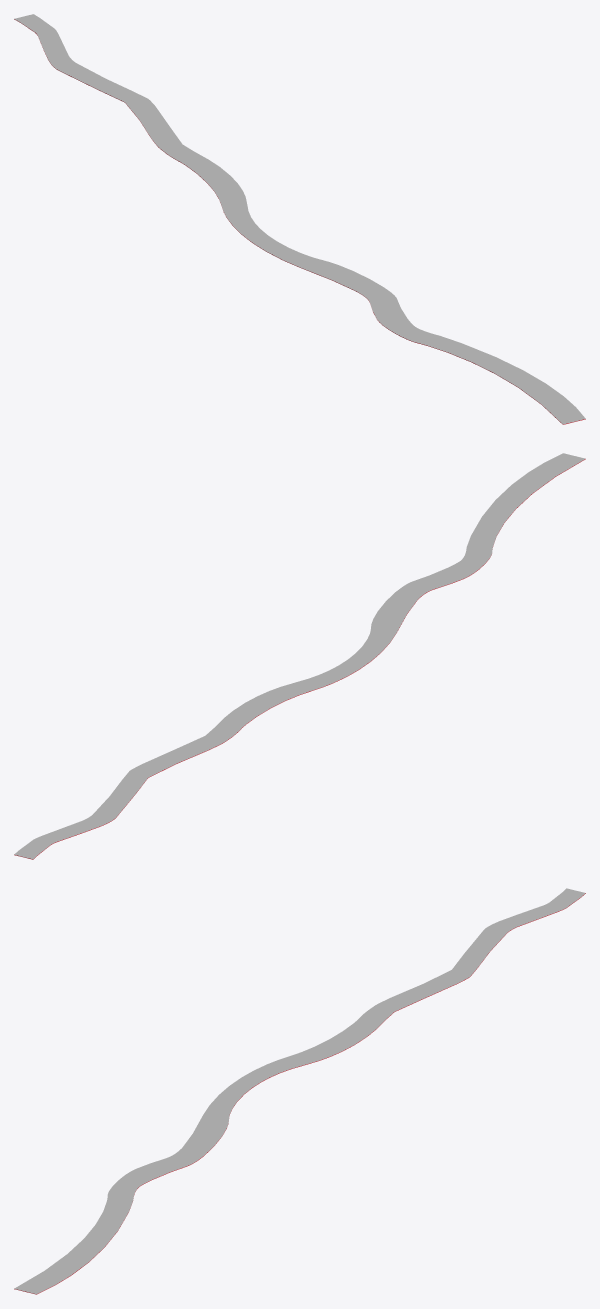
File: caminoFinal.glb
3 views of the same model, one above another, from view 1: azimuth 30°, elevation 25°; view 2: azimuth 150°, elevation 25°; view 3: azimuth 330°, elevation 25° (orthographic).
Parts seen in each view (by area): view 1: camino_capa_superiror1:Mesh, camino_capas_laterales1:Mesh; view 2: camino_capa_superiror1:Mesh, camino_capas_laterales1:Mesh; view 3: camino_capa_superiror1:Mesh, camino_capas_laterales1:Mesh.
Boxes of the visible parts, x1,y1,x2,y2 form: camino_capa_superiror1:Mesh: (14,14,585,424); camino_capas_laterales1:Mesh: (14,19,585,424); camino_capa_superiror1:Mesh: (14,453,585,859); camino_capas_laterales1:Mesh: (14,459,585,859); camino_capa_superiror1:Mesh: (14,888,585,1294); camino_capas_laterales1:Mesh: (14,893,585,1294).
Bounding box in the file's own units: 1.08 × 0.00701 × 13.54.
Materials: 2 (1 with a texture image).
